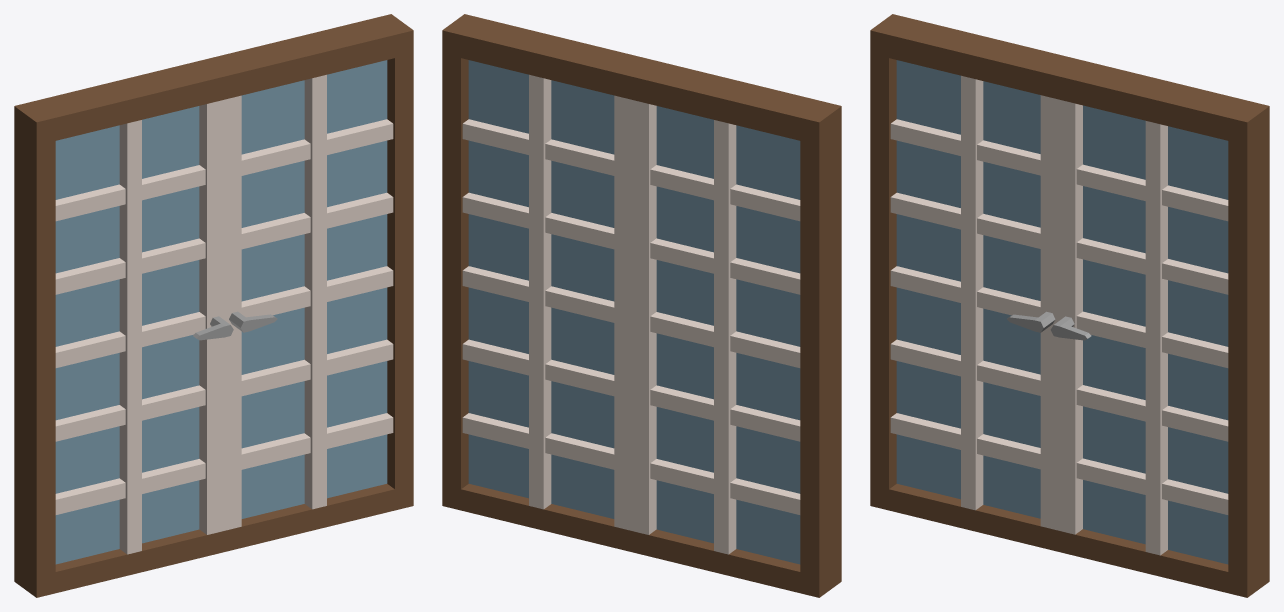
The model's file is Window_1.fbx.
3 renders of one model, left to right at view 1: azimuth 30°, elevation 25°; view 2: azimuth 150°, elevation 25°; view 3: azimuth 330°, elevation 25°, orthographic.
Parts seen in each view (by area): view 1: Window_1; view 2: Window_1; view 3: Window_1.
Part boxes in pixels (<box>): Window_1: <box>14,14,413,597</box>; Window_1: <box>442,14,841,597</box>; Window_1: <box>870,14,1269,597</box>.
Bounding box in the file's own units: 204 × 32.13 × 246.
